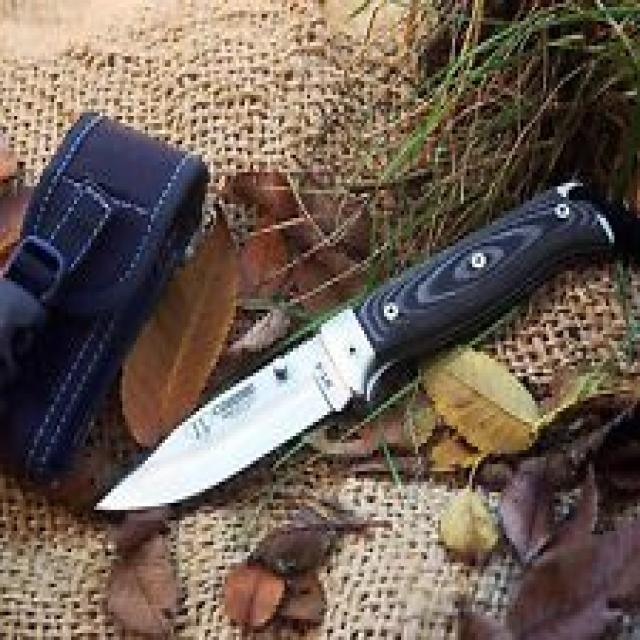knife: (91, 173, 611, 519)
